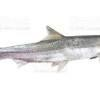Tenpounder: (2, 26, 100, 74)
